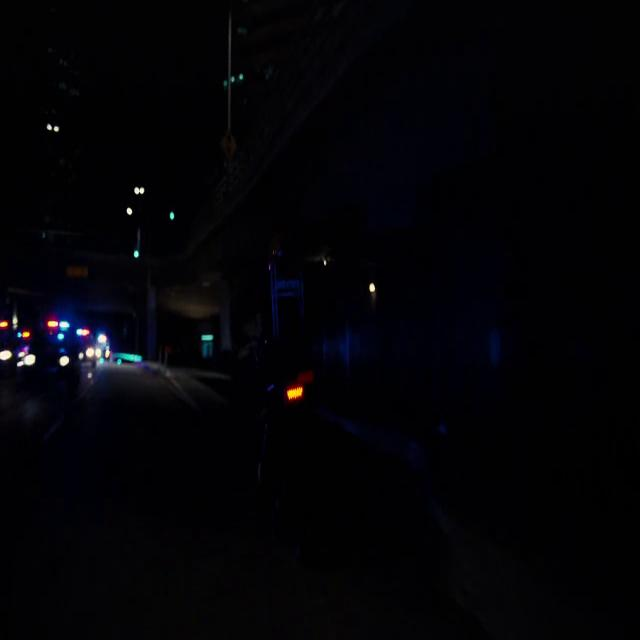Motorbike: (214, 276, 388, 596)
